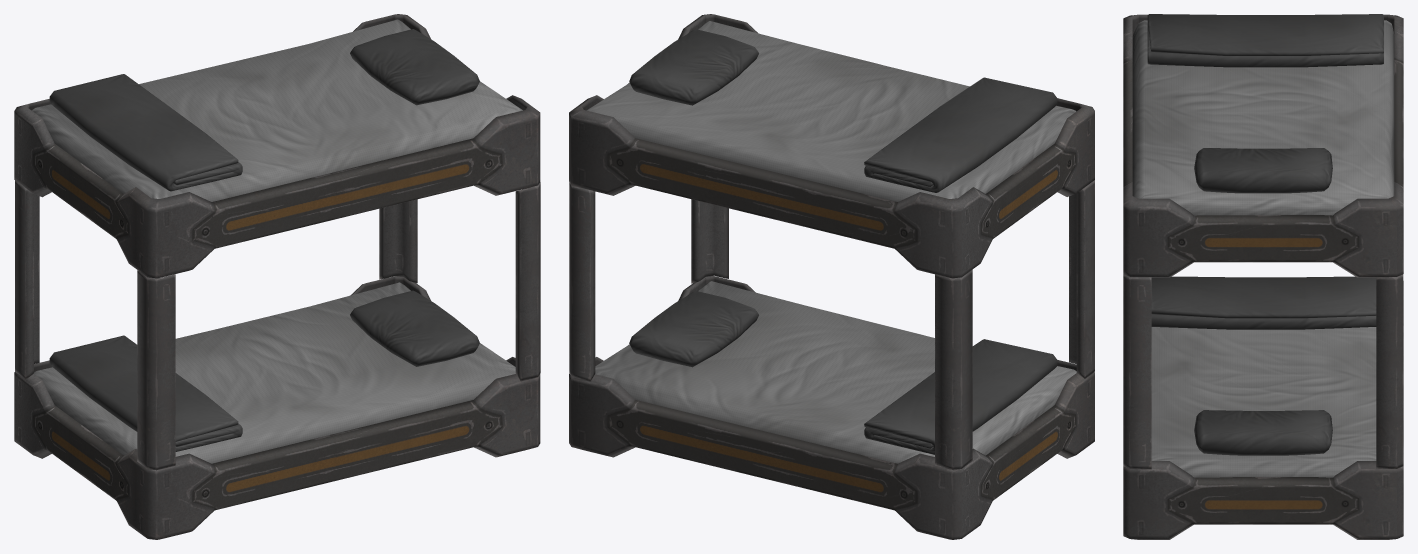
File: spaceship_furniture_bed_b.FBX
The picture shows the model from 3 angles, left to right: view 1: azimuth 30°, elevation 25°; view 2: azimuth 150°, elevation 25°; view 3: azimuth 270°, elevation 25°; orthographic projection.
Visible parts, largest first — view 1: spaceship_furniture_bed_b; view 2: spaceship_furniture_bed_b; view 3: spaceship_furniture_bed_b.
Boxes of the visible parts, x1,y1,x2,y2 form: spaceship_furniture_bed_b: (14, 14, 540, 539); spaceship_furniture_bed_b: (569, 14, 1094, 539); spaceship_furniture_bed_b: (1123, 14, 1403, 539).
Size of the model in its own units: 261 by 227 by 161.
